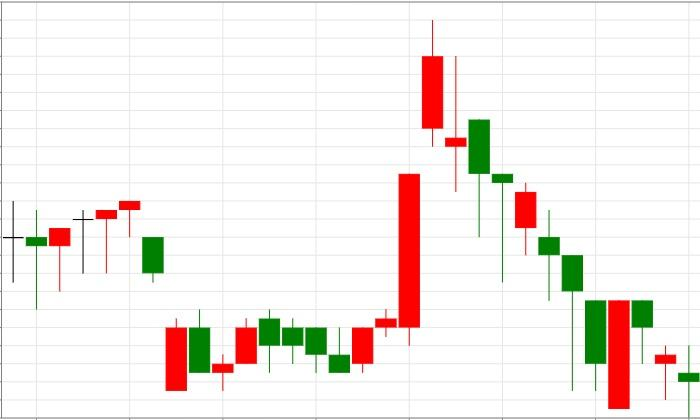bullish_engulfing_rise: (468, 118, 630, 409)
